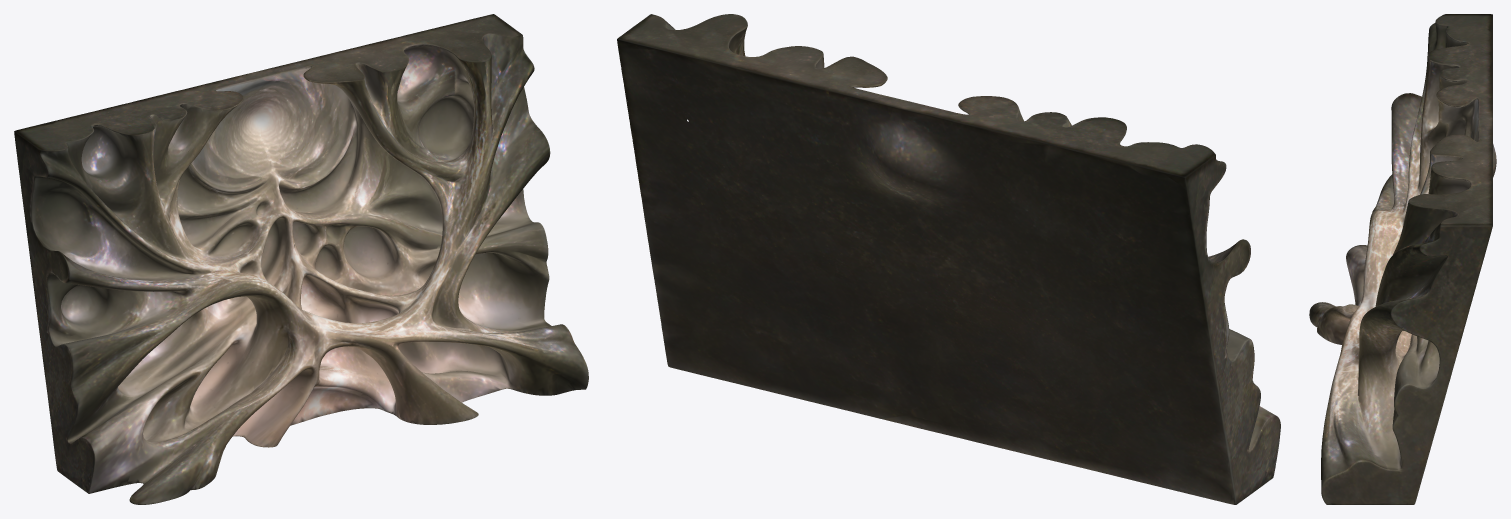
The model's file is ascent.glb.
The picture shows the model from 3 angles, left to right: view 1: azimuth 30°, elevation 25°; view 2: azimuth 150°, elevation 25°; view 3: azimuth 270°, elevation 25°; orthographic projection. The views are drawn at different scales.
Visible parts, largest first — view 1: tripo_node_8eac634e-dc0e-4d2f-a634-387214fa678f; view 2: tripo_node_8eac634e-dc0e-4d2f-a634-387214fa678f; view 3: tripo_node_8eac634e-dc0e-4d2f-a634-387214fa678f.
Part boxes in pixels (x1=…): tripo_node_8eac634e-dc0e-4d2f-a634-387214fa678f: x1=14, y1=14, x2=588, y2=504; tripo_node_8eac634e-dc0e-4d2f-a634-387214fa678f: x1=617, y1=14, x2=1280, y2=504; tripo_node_8eac634e-dc0e-4d2f-a634-387214fa678f: x1=1309, y1=14, x2=1496, y2=504.
Size of the model in its own units: 0.9794 by 0.6033 by 0.3651.
1 material, 1 textured.
